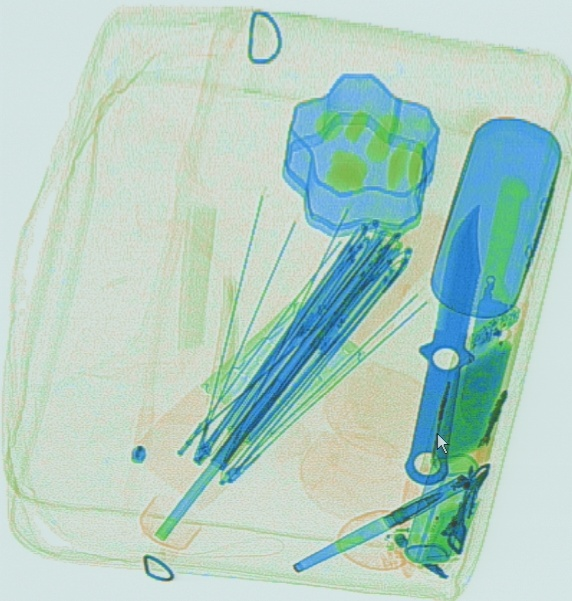knife: (401, 200, 482, 485), (456, 172, 529, 426)
